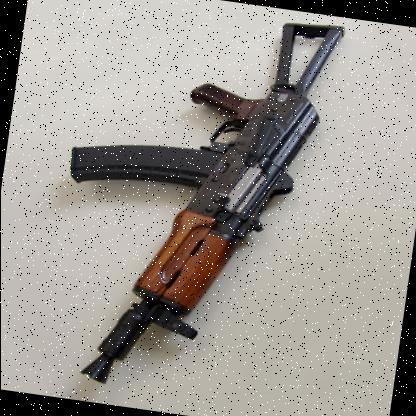rifle: (31, 0, 371, 415)
